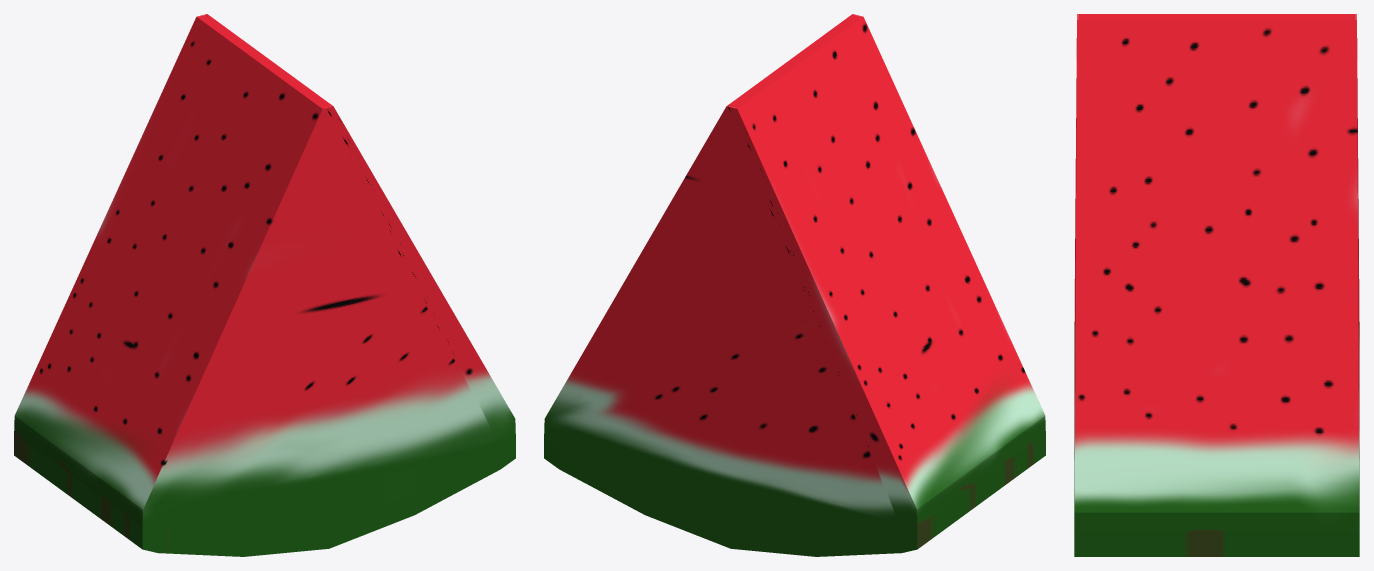
File: Melancia.fbx
3 renders of one model, left to right at view 1: azimuth 30°, elevation 25°; view 2: azimuth 150°, elevation 25°; view 3: azimuth 270°, elevation 25°, orthographic. The views are drawn at different scales.
Parts seen in each view (by area): view 1: Cube; view 2: Cube; view 3: Cube.
Part boxes in pixels (bbox=[...]): Cube: bbox=[14, 14, 515, 556]; Cube: bbox=[544, 14, 1045, 556]; Cube: bbox=[1074, 14, 1359, 556].
Size of the model in its own units: 212 by 239 by 126.
Materials: 1 (1 with a texture image).
